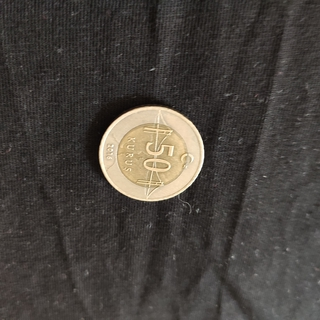50KURUS: (96, 102, 206, 202)
